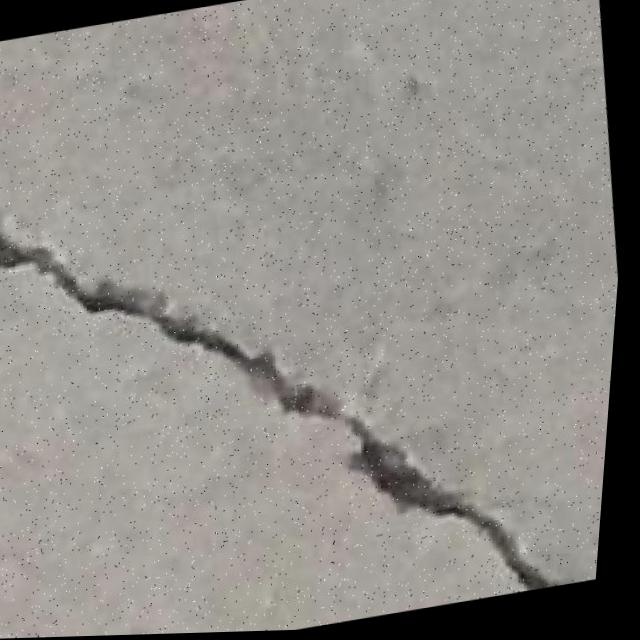Crack: (0, 101, 587, 640)
